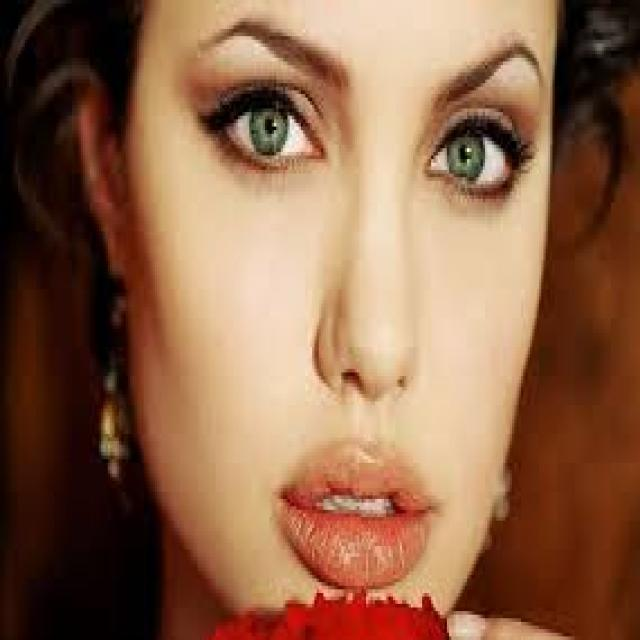low: (212, 153, 340, 194), (434, 182, 515, 226)
